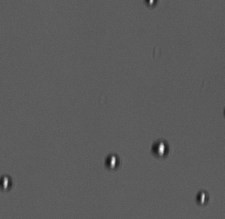Living Cell: (103, 151, 122, 172), (151, 139, 170, 159), (195, 189, 209, 207), (1, 174, 12, 193), (139, 1, 161, 9)
